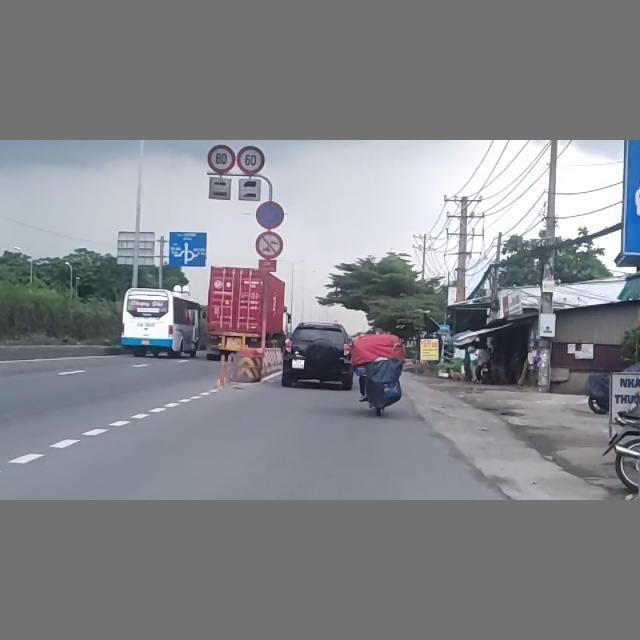P.111: (255, 230, 285, 259)
P.127*60: (237, 146, 265, 173)
P.127*80: (207, 145, 235, 173)
P.130: (255, 200, 285, 229)
